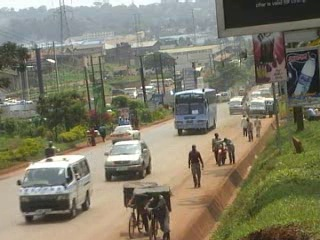Motorcycle: (212, 138, 229, 167), (43, 144, 61, 159)
